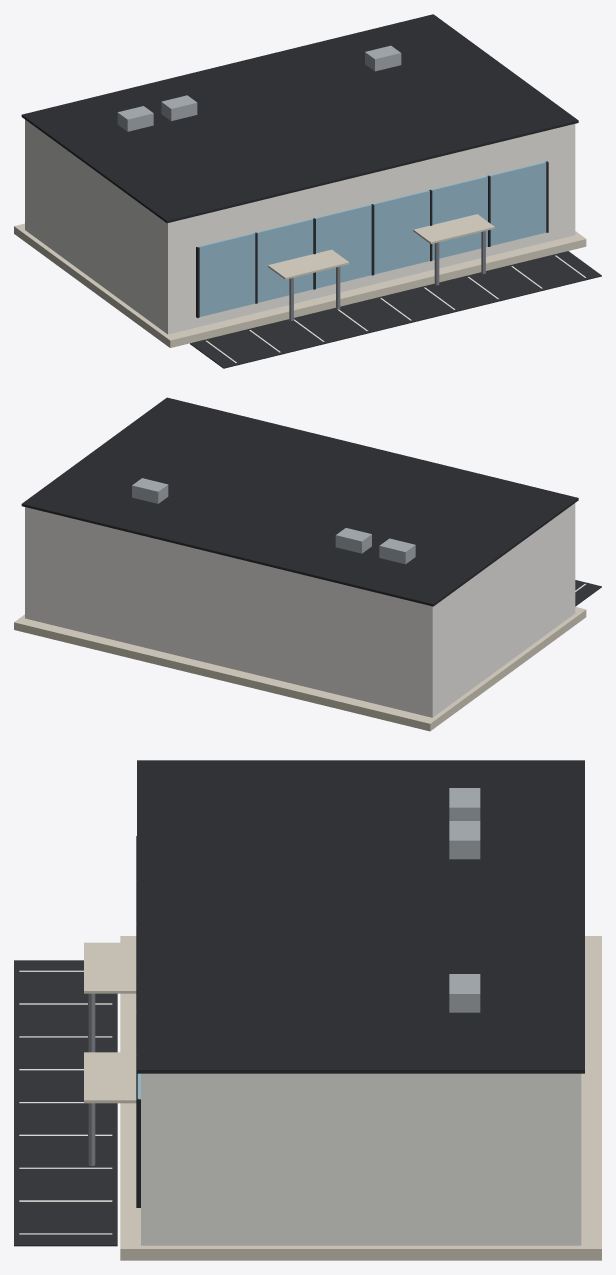
File: building.mall.glb
3 renders of one model, top to bottom at view 1: azimuth 30°, elevation 25°; view 2: azimuth 150°, elevation 25°; view 3: azimuth 270°, elevation 25°, orthographic. The views are drawn at different scales.
Visible parts, largest first — view 1: building.mall; view 2: building.mall; view 3: building.mall.
Boxes of the visible parts, x1,y1,x2,y2 form: building.mall: [14, 14, 601, 368]; building.mall: [14, 397, 601, 731]; building.mall: [14, 760, 601, 1260].
Size of the model in its own units: 28.6 by 8.85 by 22.7.
